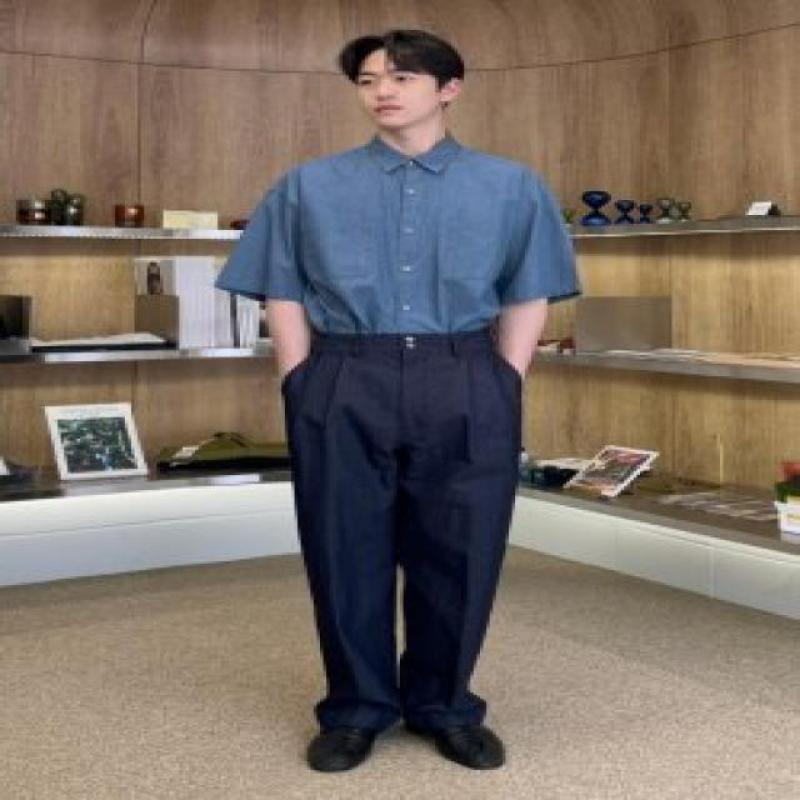short sleeve shirt: (213, 131, 585, 340)
trousers: (277, 330, 526, 734)
